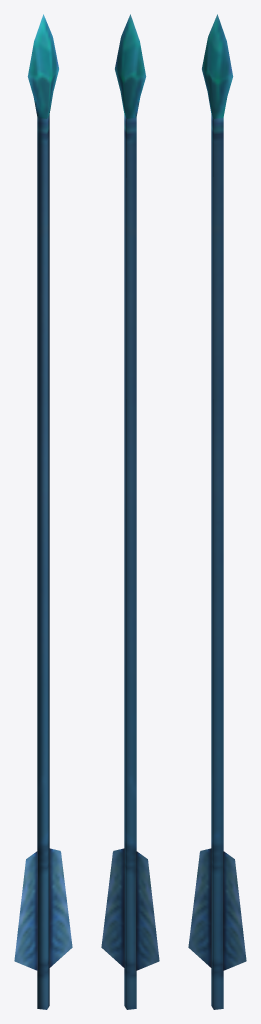
File: Arrow05.FBX
The picture shows the model from 3 angles, left to right: view 1: azimuth 30°, elevation 25°; view 2: azimuth 150°, elevation 25°; view 3: azimuth 330°, elevation 25°; orthographic projection.
Parts seen in each view (by area): view 1: Arrow05; view 2: Arrow05; view 3: Arrow05.
Boxes of the visible parts, x1,y1,x2,y2 form: Arrow05: (14,14,72,1009); Arrow05: (101,14,159,1009); Arrow05: (188,14,246,1009).
Size of the model in its own units: 4.67 by 76.96 by 1.47.
